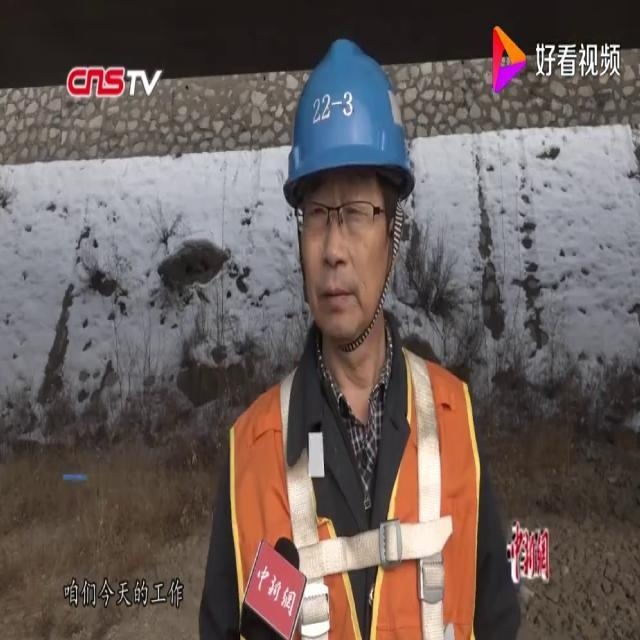Arnes_seguridad: (261, 332, 464, 639)
